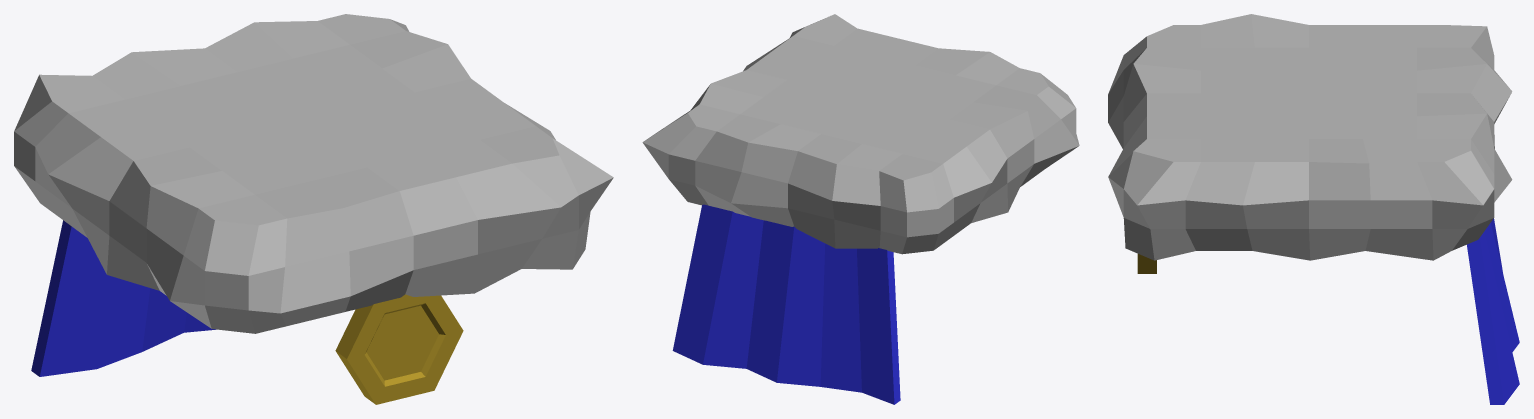
Rendered from playerCapeBlue.fbx.
3 views of the same model, side by side, from view 1: azimuth 30°, elevation 25°; view 2: azimuth 150°, elevation 25°; view 3: azimuth 270°, elevation 25° (orthographic). The views are drawn at different scales.
Parts seen in each view (by area): view 1: Player Cape - Blue; view 2: Player Cape - Blue; view 3: Player Cape - Blue.
Boxes of the visible parts, x1,y1,x2,y2 form: Player Cape - Blue: (14,14,613,404); Player Cape - Blue: (642,14,1079,404); Player Cape - Blue: (1108,14,1519,404).
Size of the model in its own units: 98.85 by 101 by 68.25.
